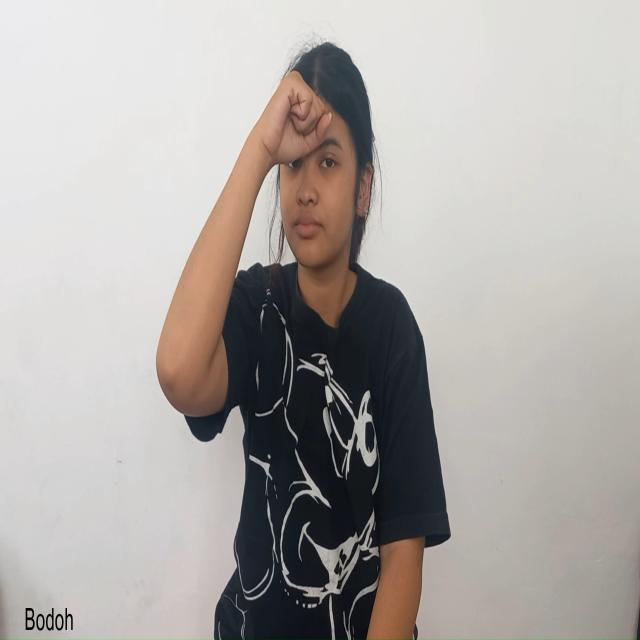Bodoh -BISINDO-: (180, 38, 426, 380)
